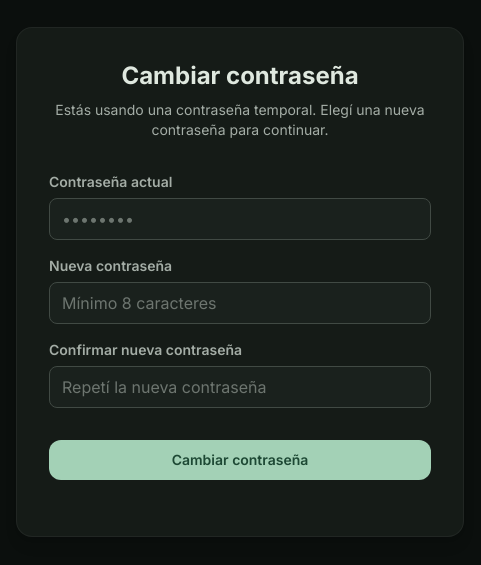
Test case: ChangePasswordPage › validates confirm password matches (confirmación distinta rechazada)
The width and height of the screenshot is (481, 565).
In the password field labelled "Contraseña actual": (240,219) [49,198,431,240], type "oldPass123"
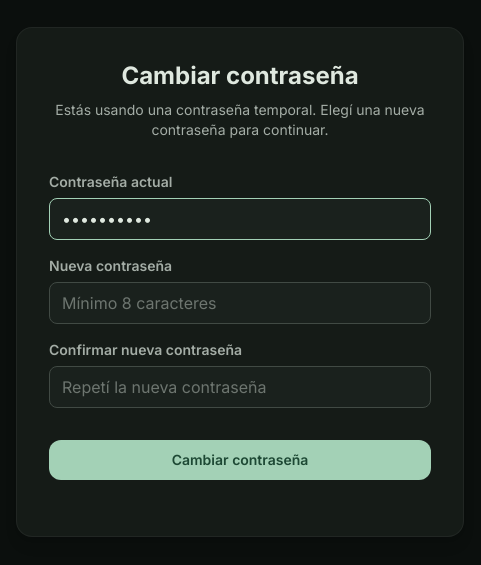
In the password field labelled "Nueva contraseña": (240,303) [49,282,431,324], type "newPass123"
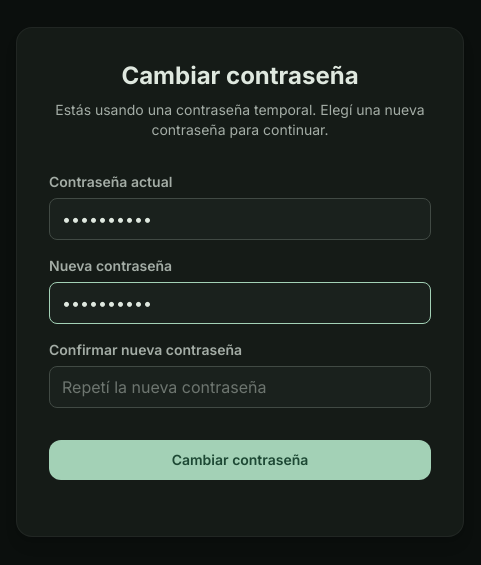
In the password field labelled "Confirmar nueva contraseña": (240,387) [49,366,431,408], type "different"
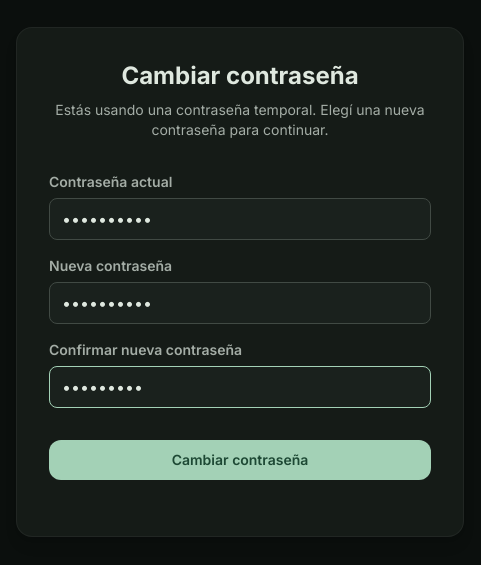
Click the button "Cambiar contraseña": (240,460) [49,440,431,480]
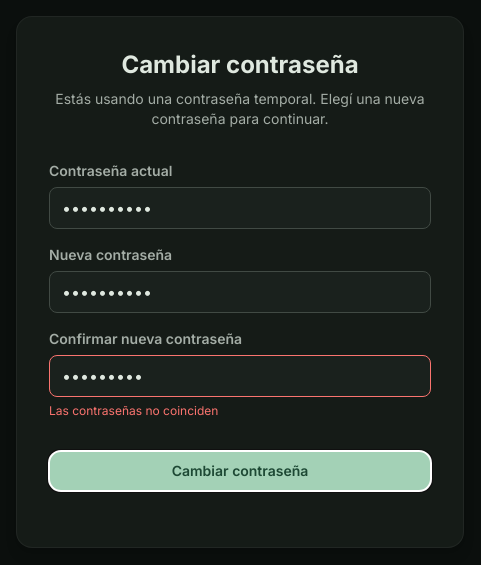
Now the text "Las contraseñas no coinciden" is shown, box [49,403,218,418]
